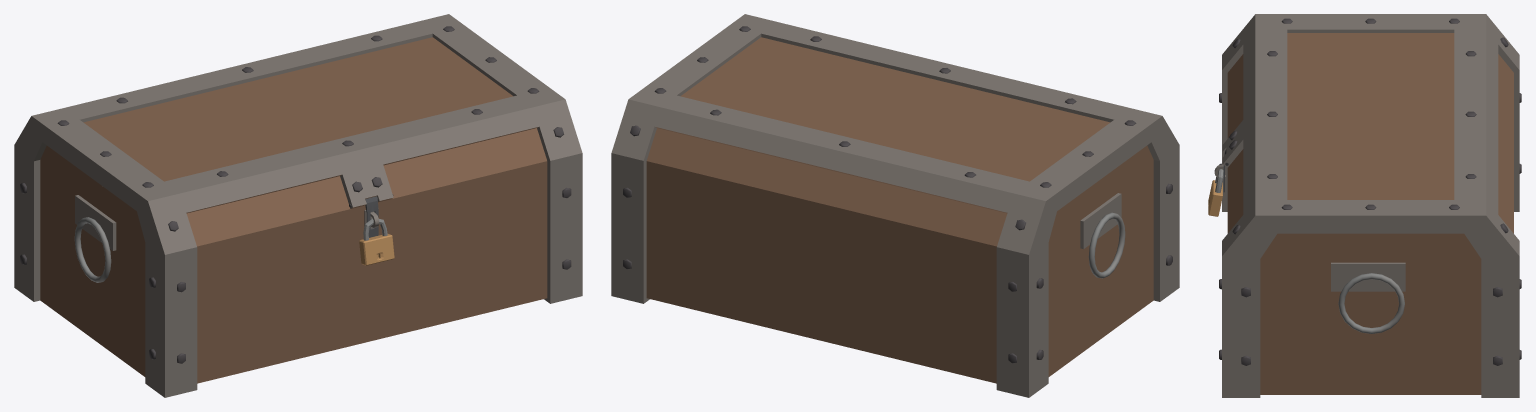
Rendered from atoll_Chest.fbx.
3 views of the same model, side by side, from view 1: azimuth 30°, elevation 25°; view 2: azimuth 150°, elevation 25°; view 3: azimuth 270°, elevation 25° (orthographic).
Parts seen in each view (by area): view 1: Chest, pCube2, pTorus2, Chest_Master_Padlock; view 2: Chest, pCube2, pTorus2; view 3: Chest, pCube1, pTorus1, Chest_Master_Padlock.
Part boxes in pixels (x1,y1,x2,y2): Chest: (14, 14, 582, 397); pCube2: (75, 195, 116, 250); pTorus2: (74, 217, 111, 282); Chest_Master_Padlock: (359, 234, 394, 265); Chest: (611, 14, 1179, 397); pCube2: (1080, 193, 1121, 248); pTorus2: (1088, 212, 1125, 278); Chest: (1222, 14, 1519, 397); pCube1: (1331, 262, 1405, 291); pTorus1: (1338, 273, 1404, 333); Chest_Master_Padlock: (1208, 180, 1222, 216).
Bounding box in the file's own units: 147 × 61.8 × 95.34.
